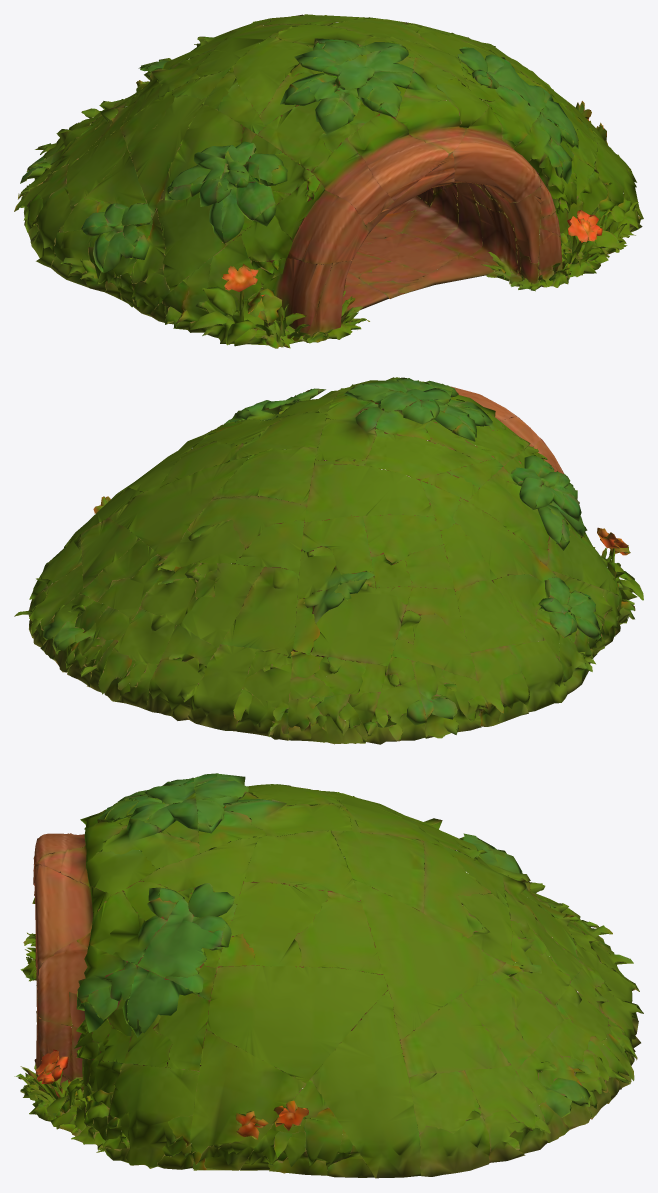
Rendered from mossy-burrow.glb.
3 renders of one model, top to bottom at view 1: azimuth 30°, elevation 25°; view 2: azimuth 150°, elevation 25°; view 3: azimuth 270°, elevation 25°, orthographic. The views are drawn at different scales.
Visible parts, largest first — view 1: mesh_node; view 2: mesh_node; view 3: mesh_node.
Part boxes in pixels (x1,y1,x2,y2): mesh_node: [14, 14, 643, 348]; mesh_node: [14, 377, 643, 744]; mesh_node: [14, 773, 643, 1178].
Bounding box in the file's own units: 1.9 × 0.7209 × 1.74.
Materials: 1 (1 with a texture image).
